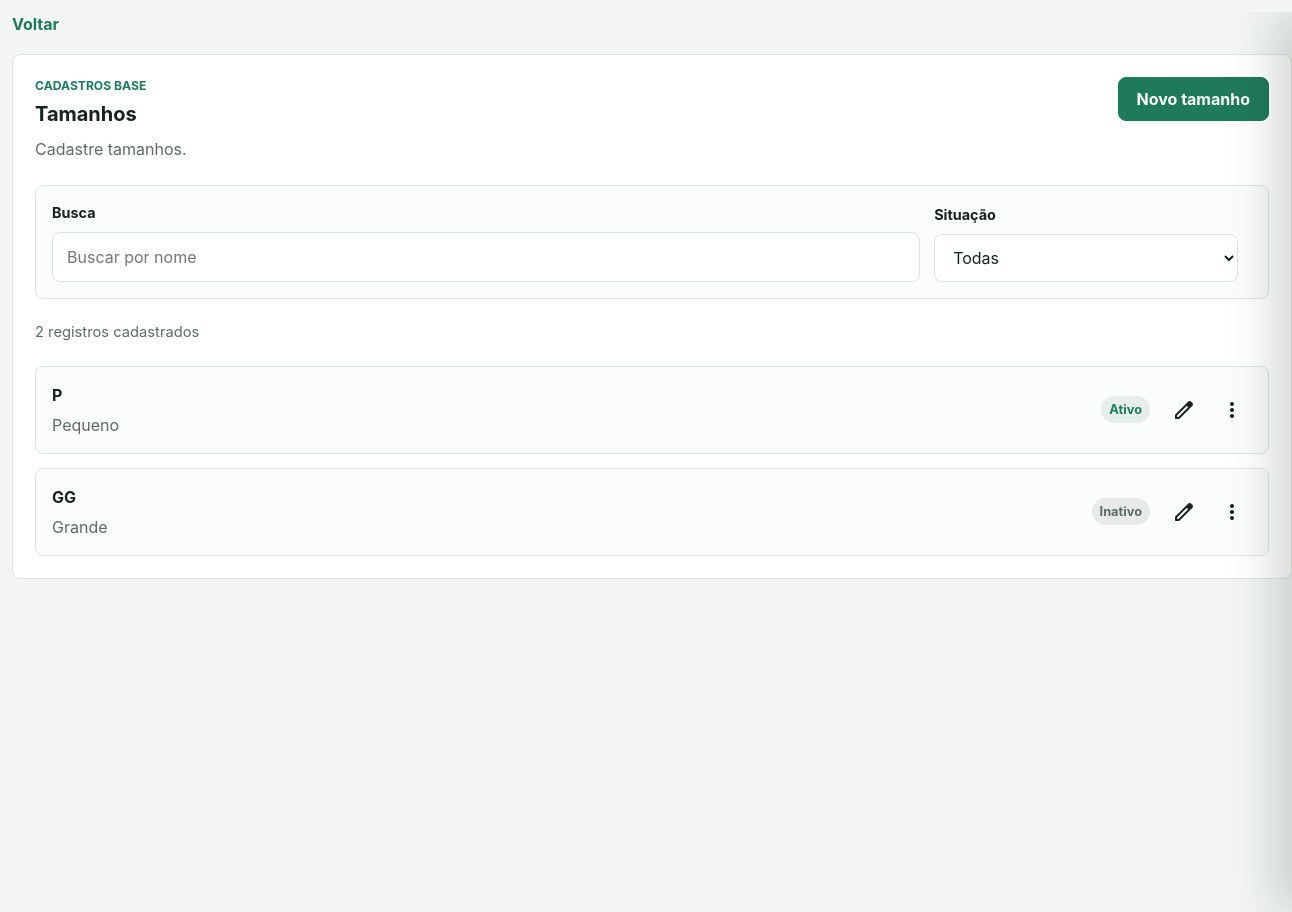
it: CrudPageShellComponent › renders records and filters by search
The image size is (1292, 912).
Type "pequeno" into the search field labelled "Busca" at (486,257), box [52,232,920,282]
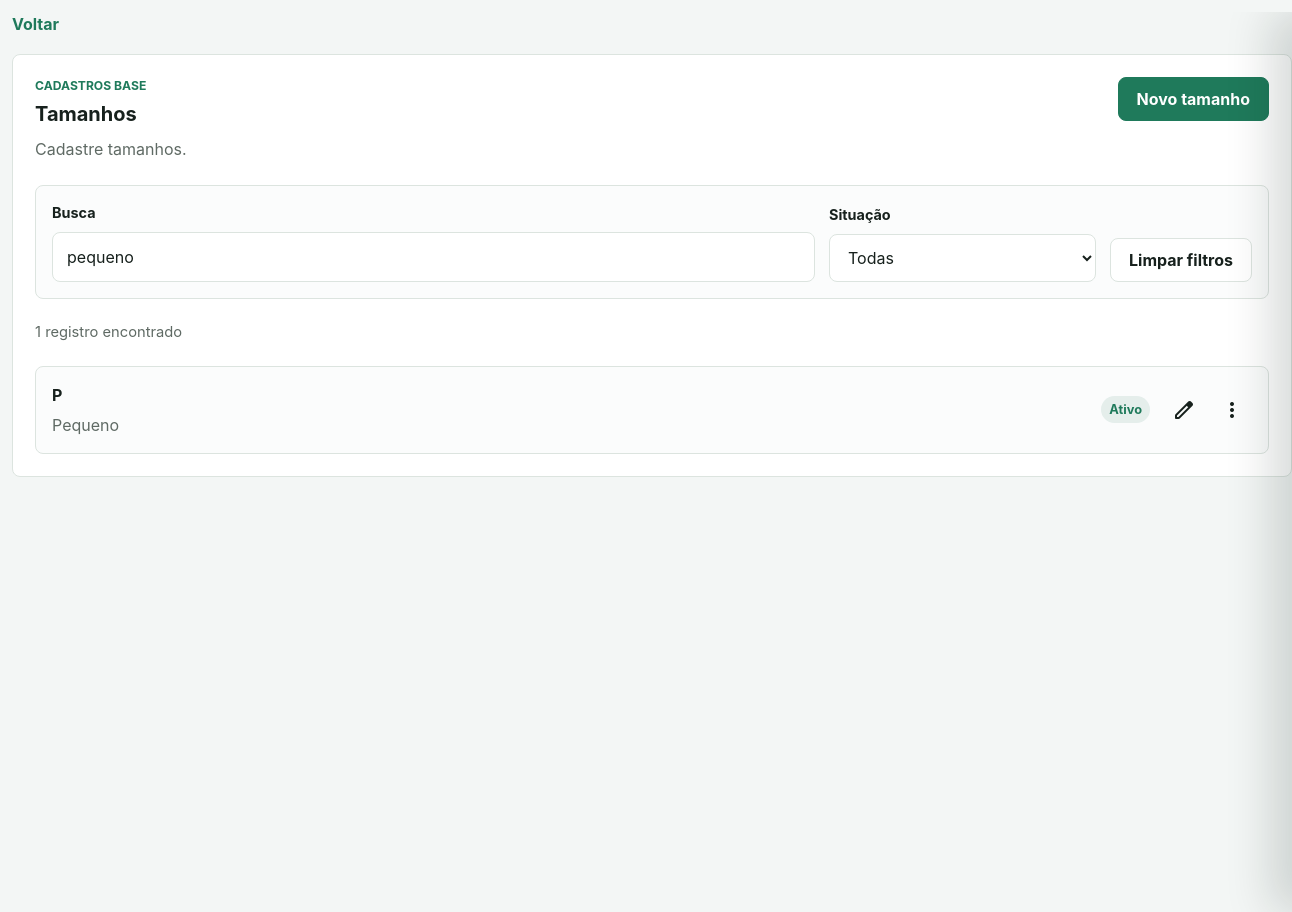
Expected: the text "p" is shown, [1110,238,1252,282]
Now the text "GG" is gone
